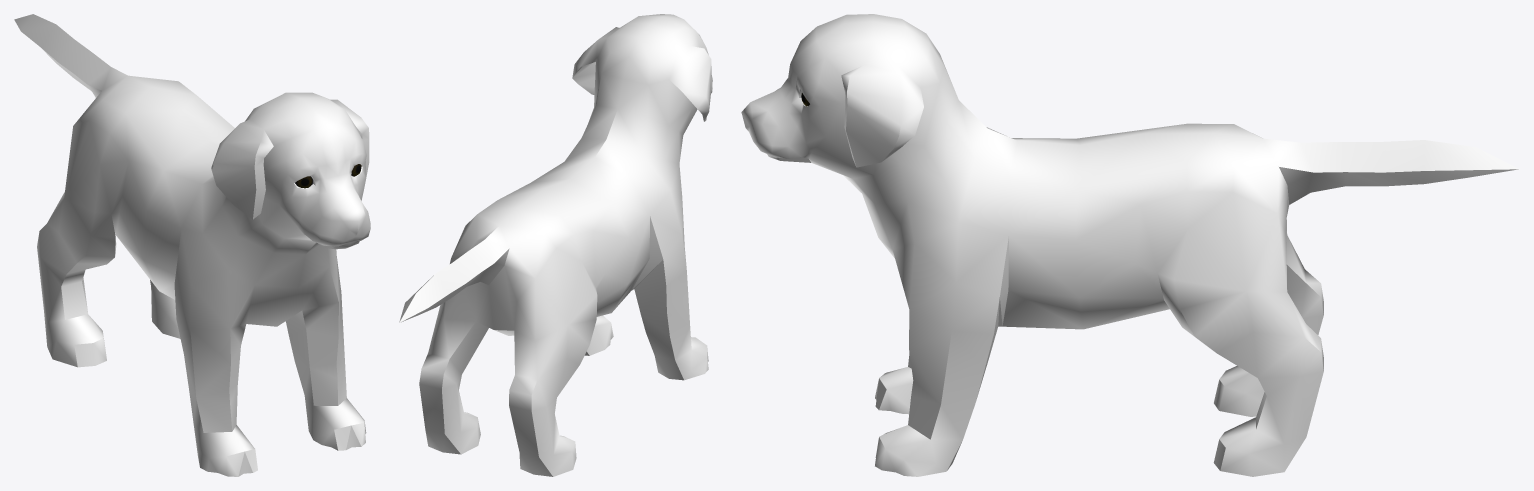
File: puppy.gltf
3 renders of one model, left to right at view 1: azimuth 30°, elevation 25°; view 2: azimuth 150°, elevation 25°; view 3: azimuth 270°, elevation 25°, orthographic. The views are drawn at different scales.
Parts seen in each view (by area): view 1: Object_2; view 2: Object_2; view 3: Object_2.
Part boxes in pixels (x1=…): Object_2: x1=14, y1=14, x2=370, y2=476; Object_2: x1=399, y1=14, x2=712, y2=476; Object_2: x1=741, y1=14, x2=1518, y2=476.
Size of the model in its own units: 1.49 by 3.28 by 5.53.
Materials: 3 (3 with a texture image).
